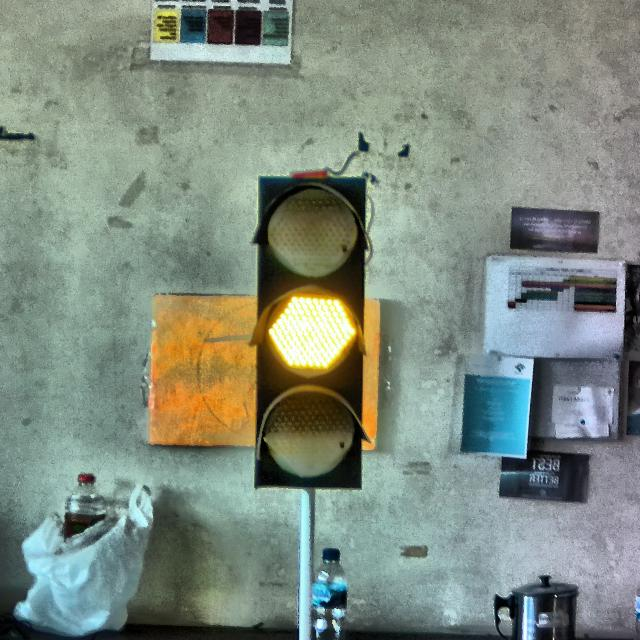yellow: (252, 178, 366, 490)
